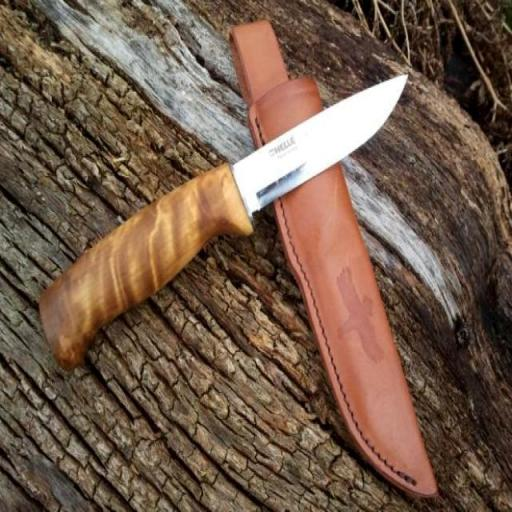knife: (194, 60, 418, 231)
